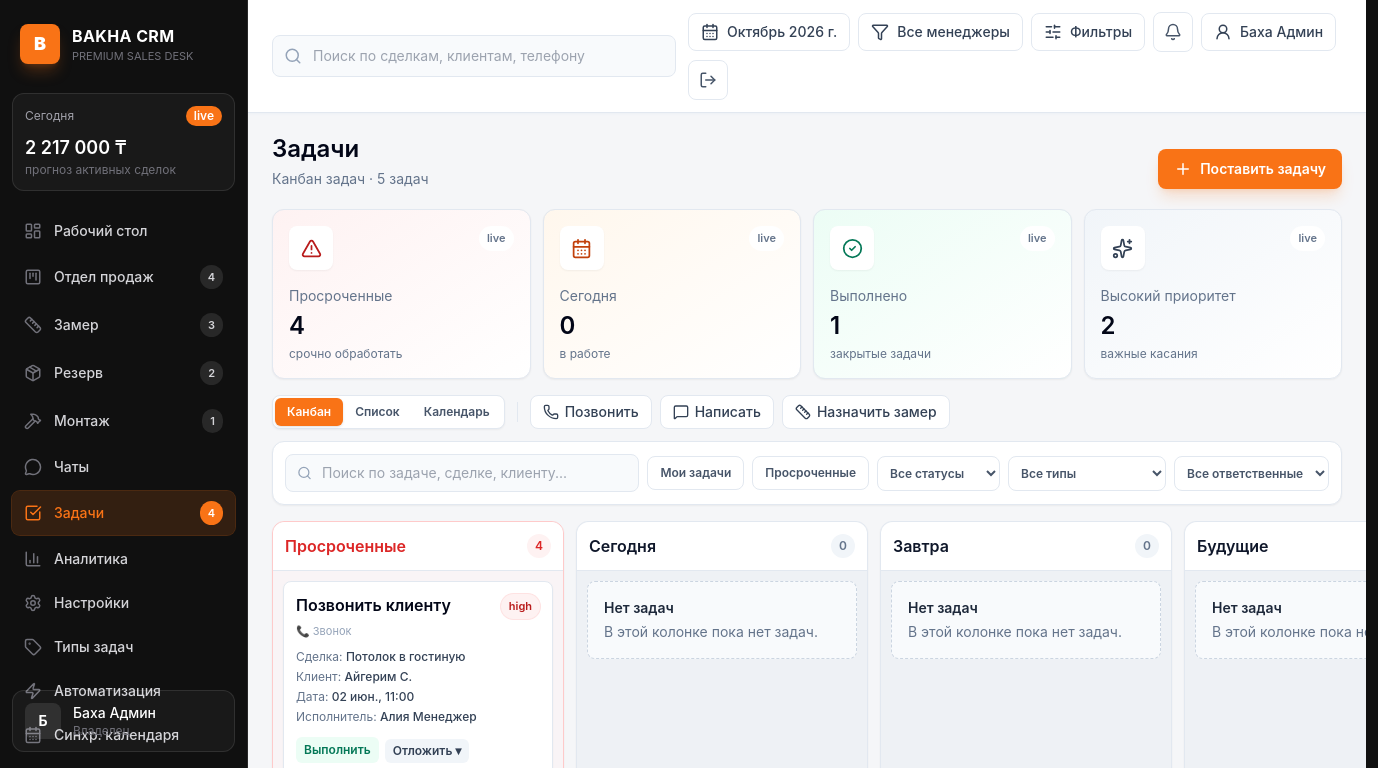
Bakha CRM smoke › postpone button on task card shows snooze options
Expected: the heading "Задачи" is shown, [272,134,359,163]
Click the button "Отложить ▾".
click(427, 751)  # box [385,739,469,763]
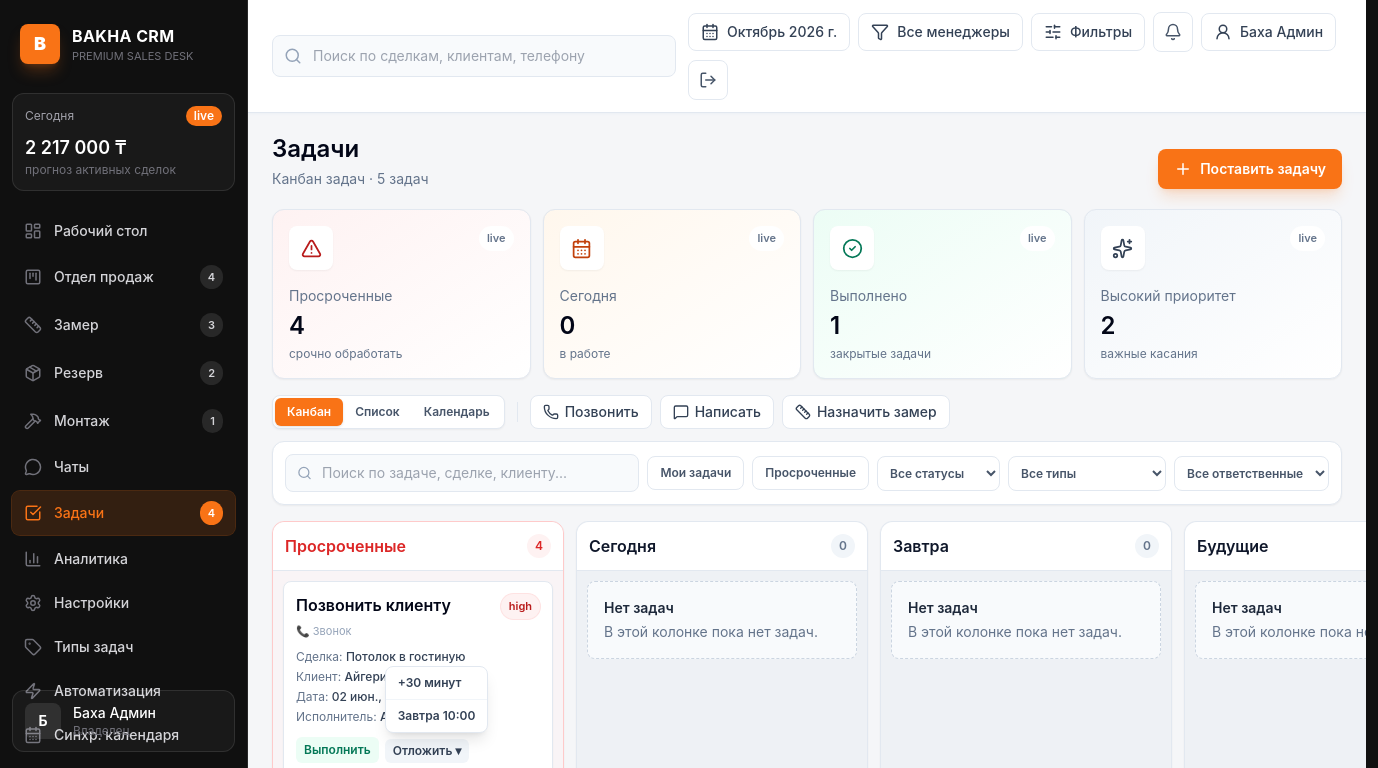
Now the button "+30 минут" is shown, box [386,667,487,699]
Now the button "Завтра 10:00" is shown, box [386,699,487,732]
